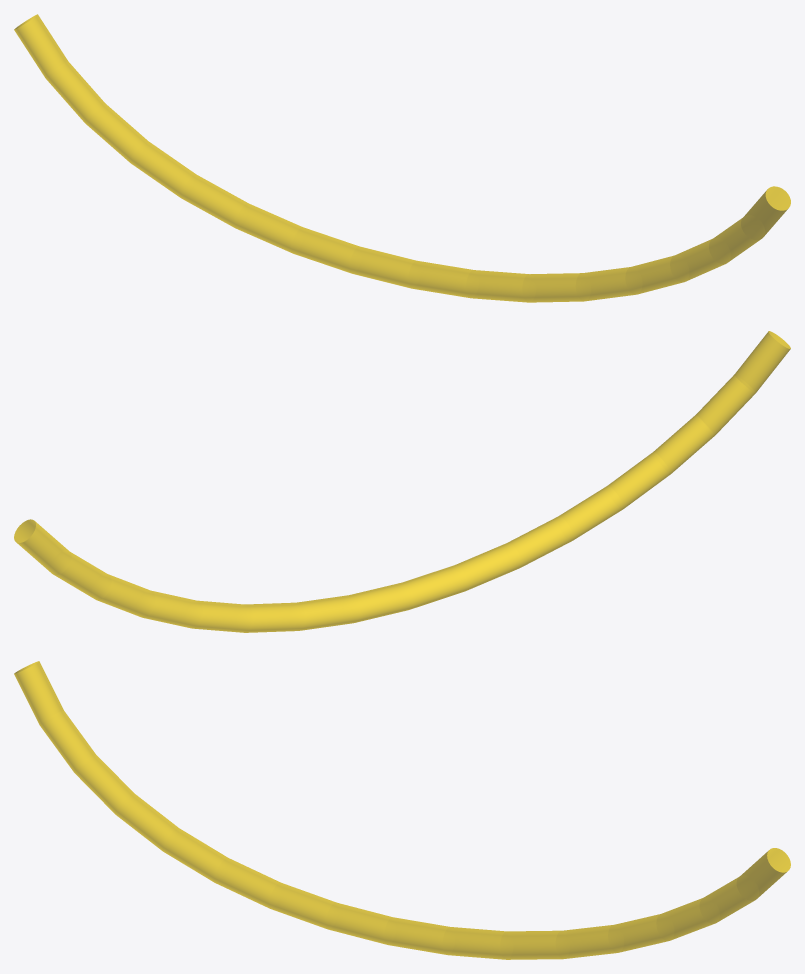
Rendered from Event_419990632_track_67.fbx.
3 renders of one model, top to bottom at view 1: azimuth 90°, elevation 25°; view 2: azimuth 150°, elevation 25°; view 3: azimuth 270°, elevation 25°, orthographic.
Parts seen in each view (by area): view 1: Model; view 2: Model; view 3: Model.
Part boxes in pixels (box(x1,y1,x2,y2)): Model: box(14, 14, 790, 302); Model: box(14, 331, 790, 632); Model: box(14, 661, 790, 959).
Size of the model in its own units: 0.6496 by 0.2958 by 1.09.
